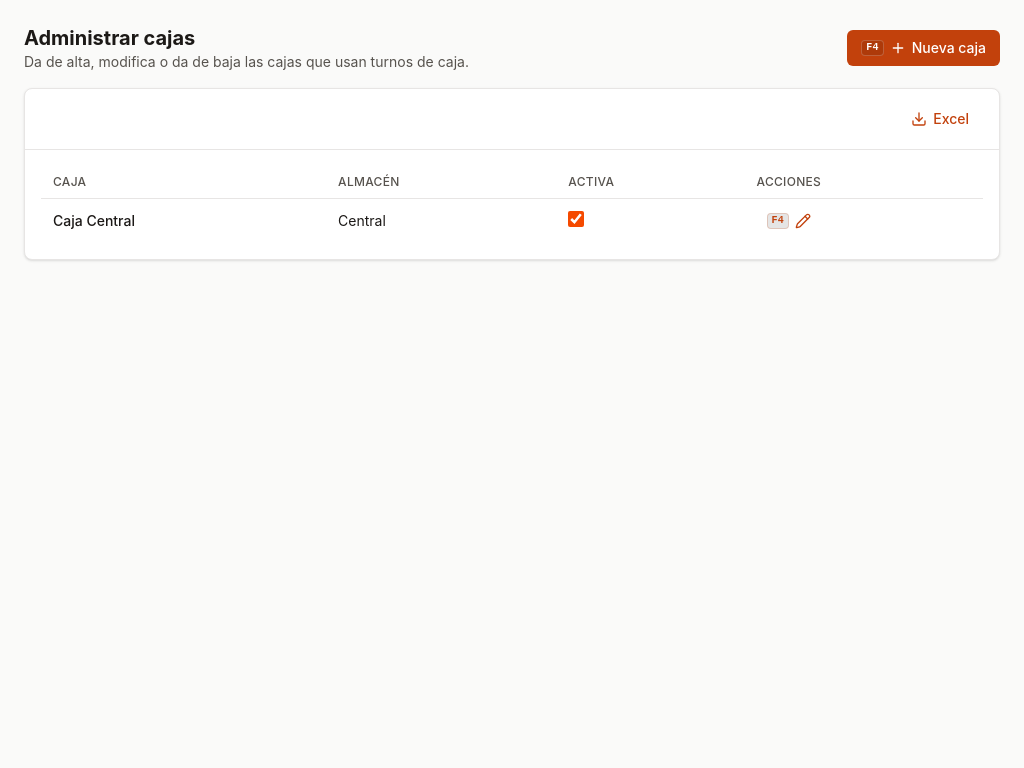
Test: CajasAdminPage (smoke) › 'Nueva caja' abre el diálogo de alta
Expected: the text "Caja Central" is shown, [53,212,135,229]
Click the button "F4 Nueva caja" at {"x": 924, "y": 48}, box [847,30,1000,66]
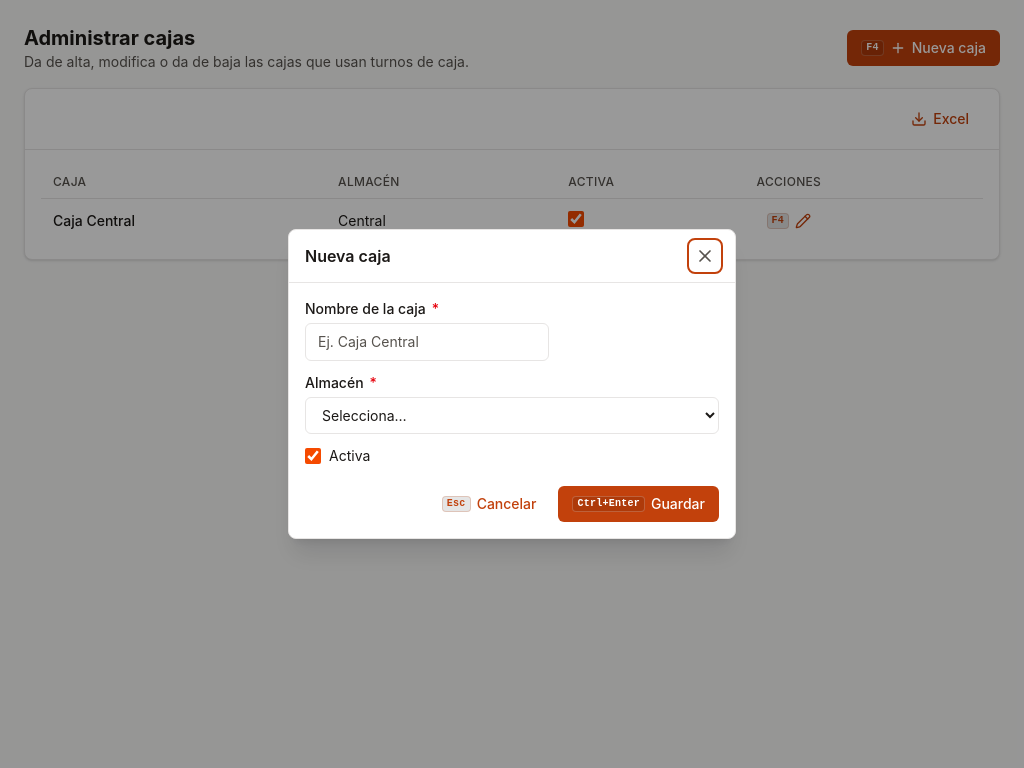
Now the heading "Nueva caja" is shown, box [305,244,391,268]
Now the field labelled "Nombre de la caja *" is shown, box [305,323,549,361]
Now the dropdown labelled "Almacén *" is shown, box [305,397,719,434]
